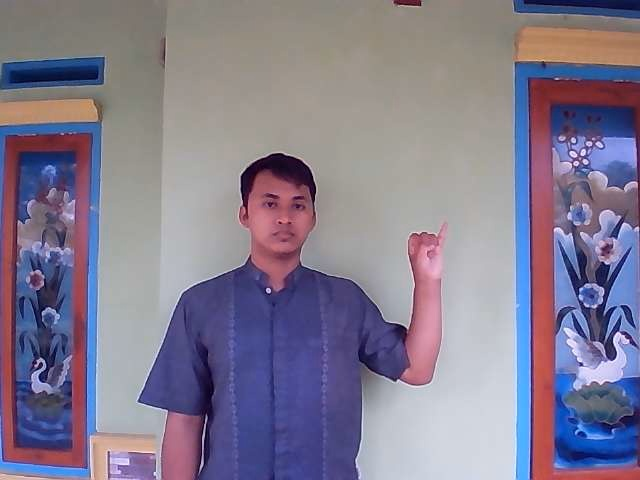I: (399, 218, 456, 293)
